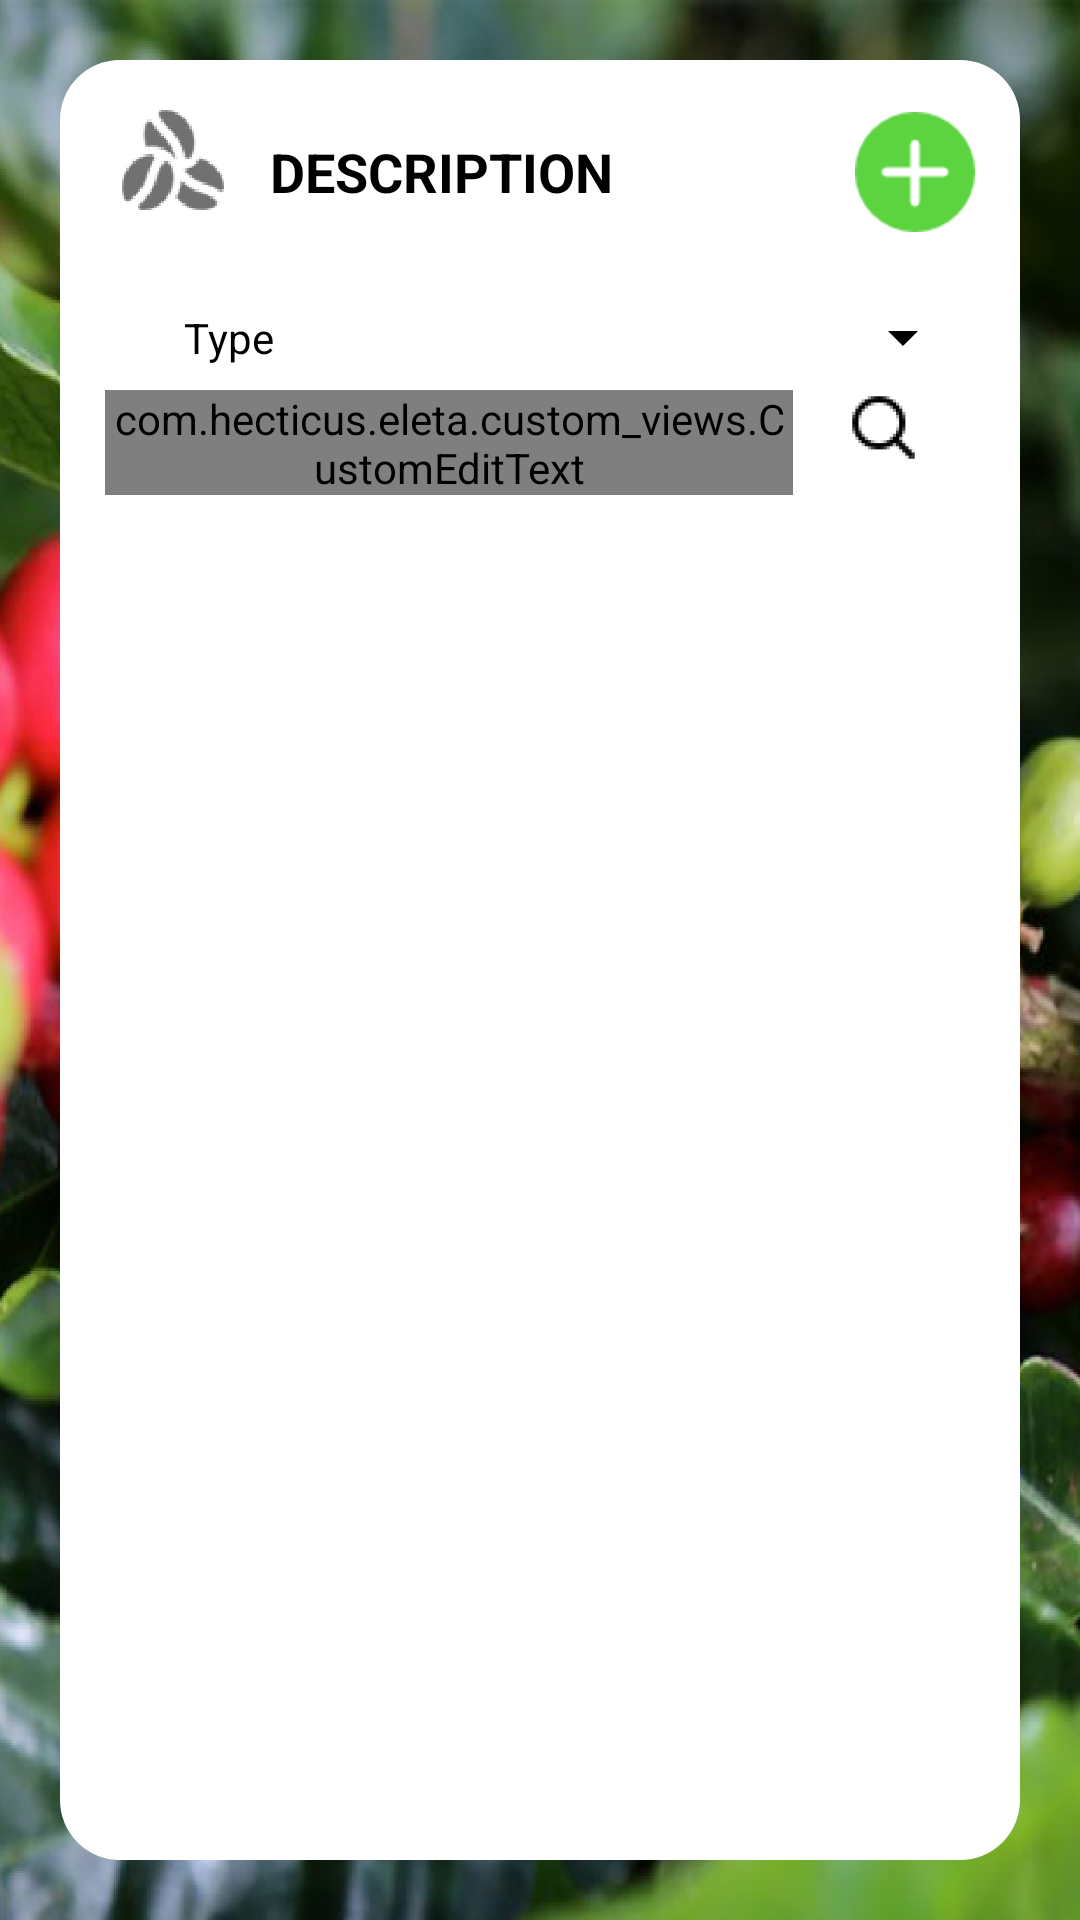

Named icons in this screenshot (1080w x 1920h) and their centers, (x,y):
coffee beans: (173,160)
plus: (915,172)
search: (883,427)
